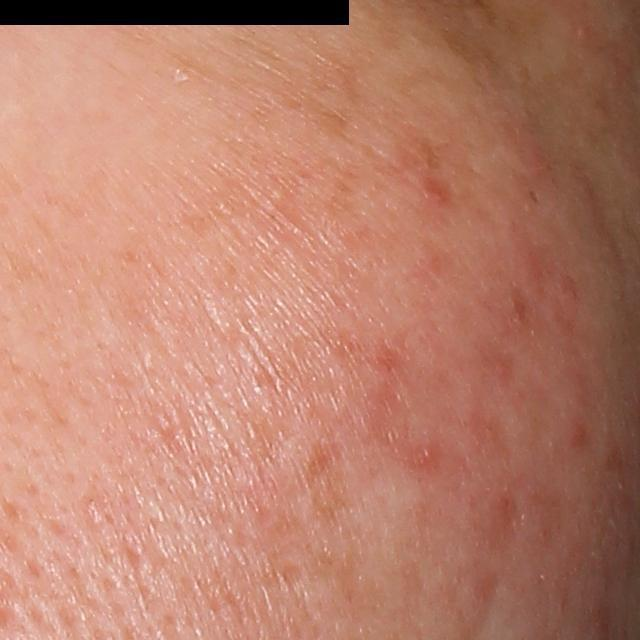papule: (418, 176, 446, 205), (570, 425, 590, 446)
